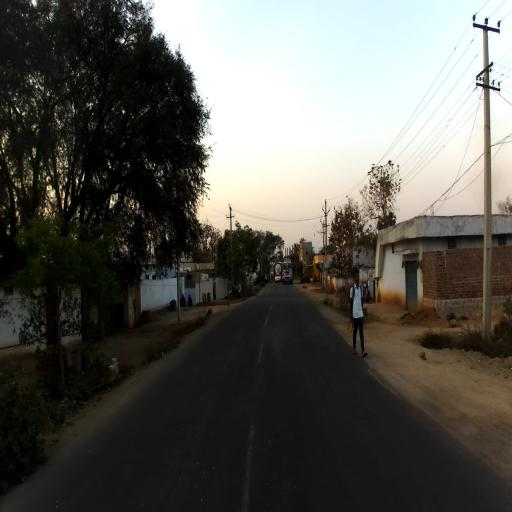street_light_0: (317, 230, 325, 242)
